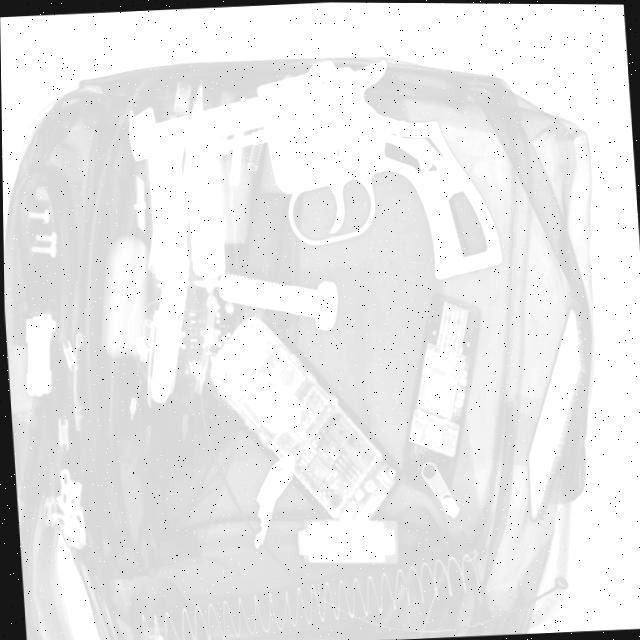pistol: (125, 51, 505, 298)
